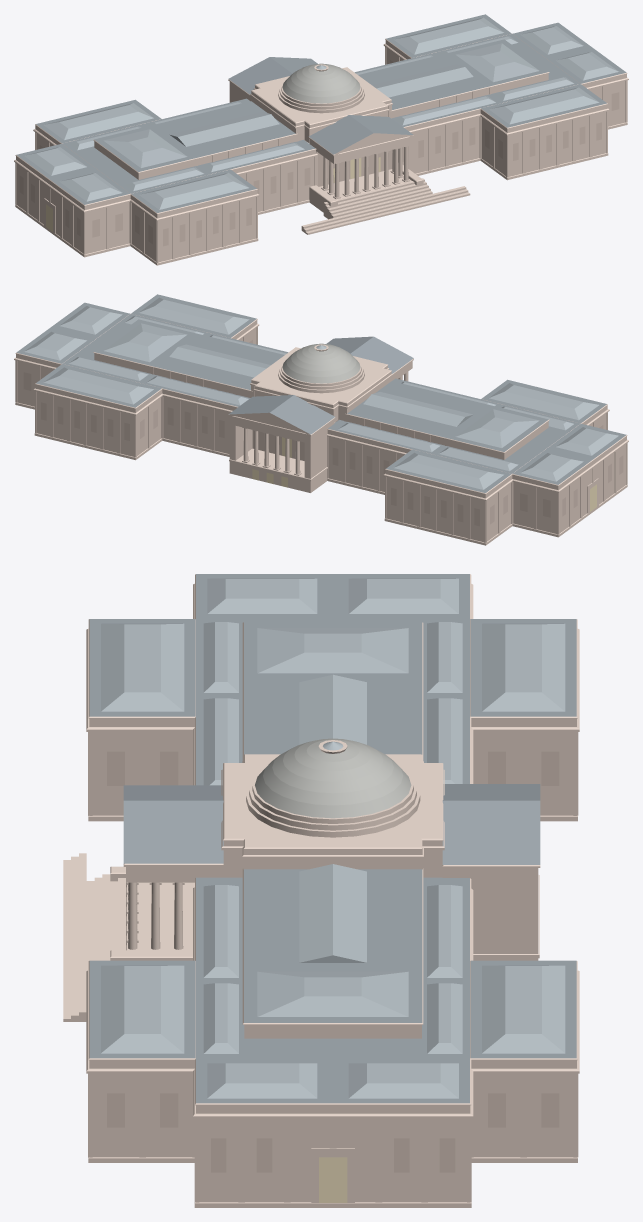
File: dc-nga-west.glb
3 views of the same model, one above another, from view 1: azimuth 30°, elevation 25°; view 2: azimuth 150°, elevation 25°; view 3: azimuth 270°, elevation 25° (orthographic). The views are drawn at different scales.
Visible parts, largest first — view 1: National Gallery of Art, West Building; view 2: National Gallery of Art, West Building; view 3: National Gallery of Art, West Building.
Boxes of the visible parts, bbox=[...] form: National Gallery of Art, West Building: bbox=[14, 14, 628, 265]; National Gallery of Art, West Building: bbox=[14, 294, 628, 545]; National Gallery of Art, West Building: bbox=[63, 574, 579, 1207].
Bounding box in the file's own units: 241 × 42.51 × 98.95.
